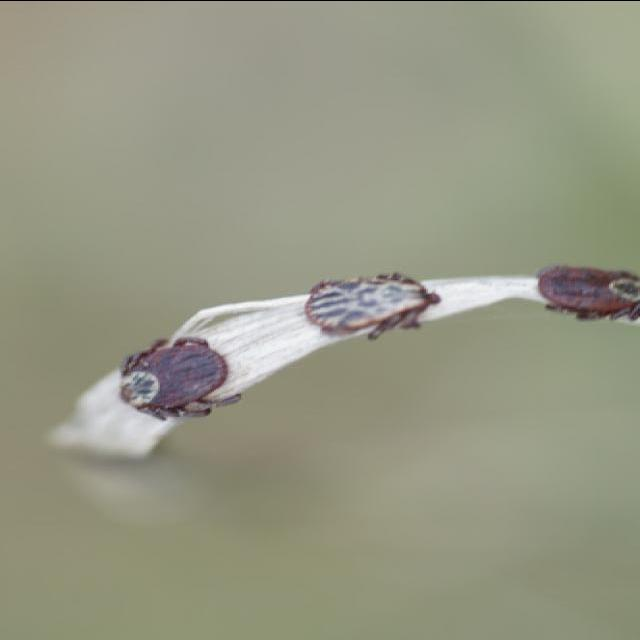Dermacentor Reticulatus-F: (120, 335, 243, 421), (528, 262, 640, 326)
Dermacentor Reticulatus-M: (307, 270, 440, 339)
